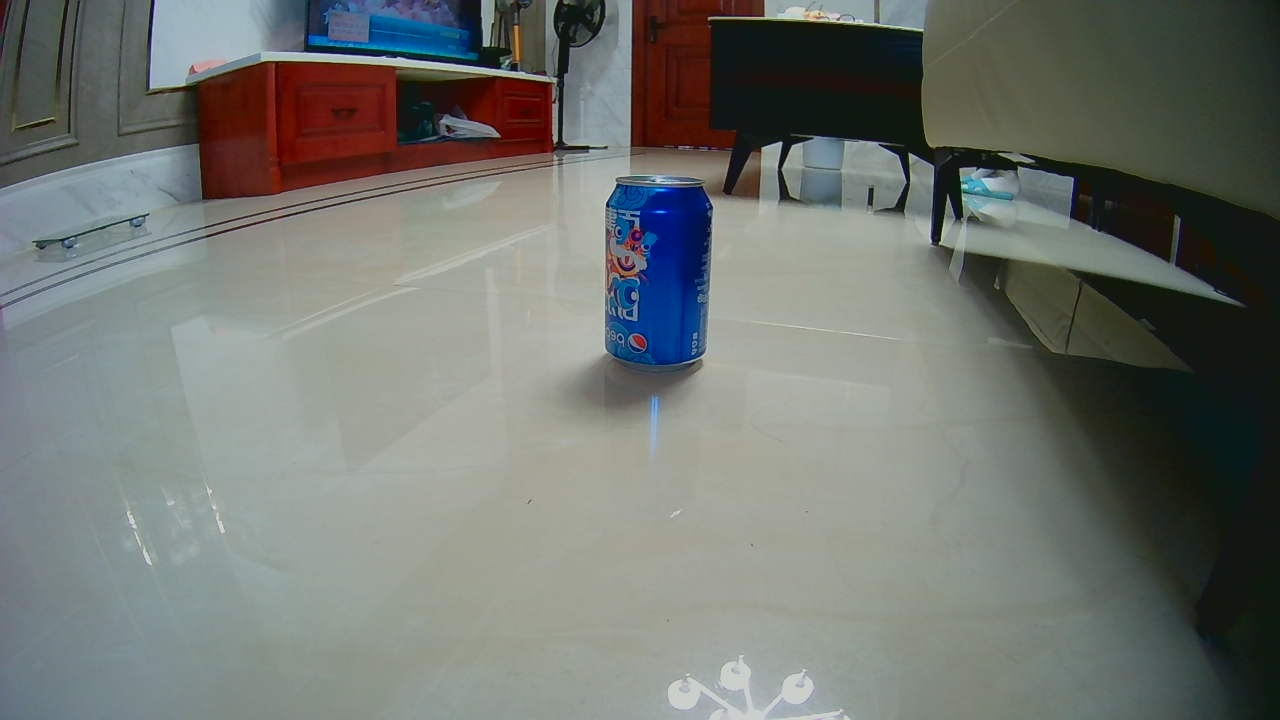pessi: (604, 174, 713, 365)
